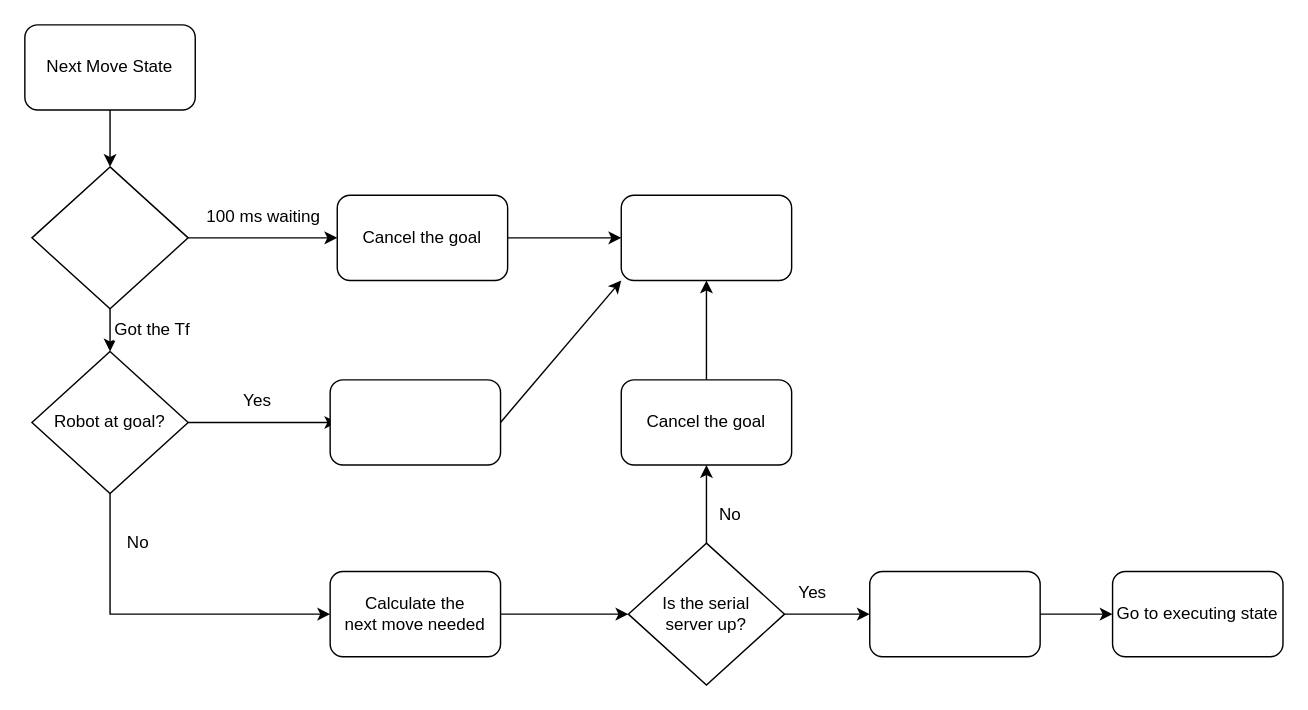
This 1308x710 diagram has some shape labels left out. Each missing label, with the box of its shape:
Go to Idle: (620, 194, 792, 280)
Goal succed: (329, 378, 501, 465)
Send the goal: (868, 570, 1040, 657)
Try to get the actual robot tf: (31, 165, 188, 309)
